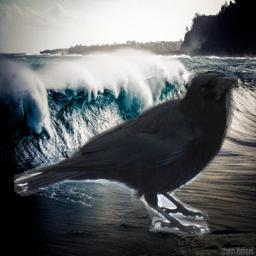Crow: (14, 71, 238, 236)
